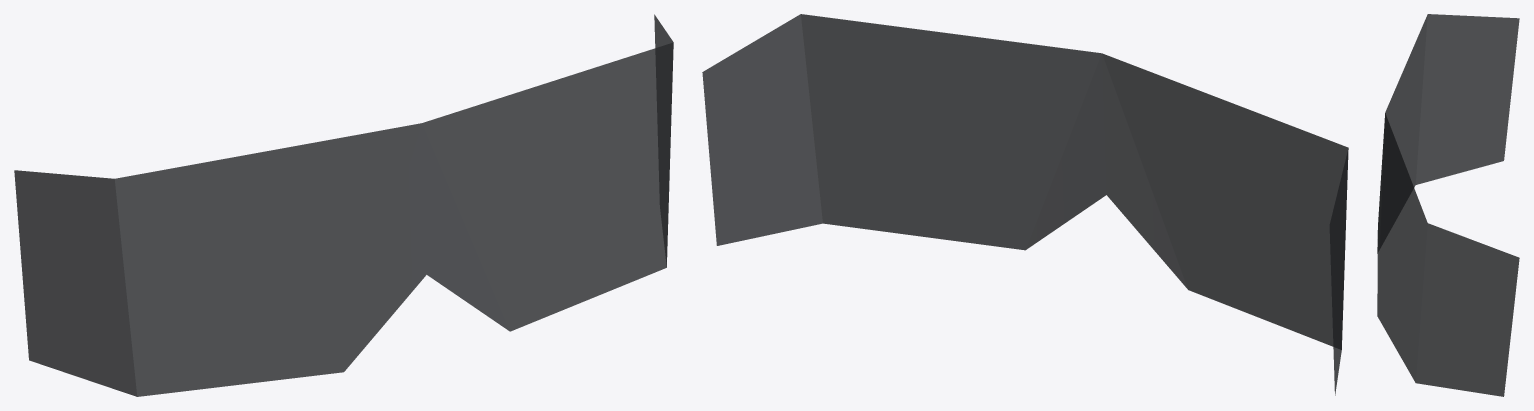
The model's file is SM_Chr_Attach_Goggles_01_Glass.fbx.
3 views of the same model, side by side, from view 1: azimuth 30°, elevation 25°; view 2: azimuth 150°, elevation 25°; view 3: azimuth 270°, elevation 25° (orthographic). The views are drawn at different scales.
Parts seen in each view (by area): view 1: SM_Chr_Attach_Goggles_01_Glass; view 2: SM_Chr_Attach_Goggles_01_Glass; view 3: SM_Chr_Attach_Goggles_01_Glass.
Boxes of the visible parts, box(x1,y1,x2,y2) form: SM_Chr_Attach_Goggles_01_Glass: box(14, 14, 673, 396); SM_Chr_Attach_Goggles_01_Glass: box(702, 14, 1348, 395); SM_Chr_Attach_Goggles_01_Glass: box(1377, 14, 1519, 396).
Size of the model in its own units: 23.2 by 7.8 by 5.83.
